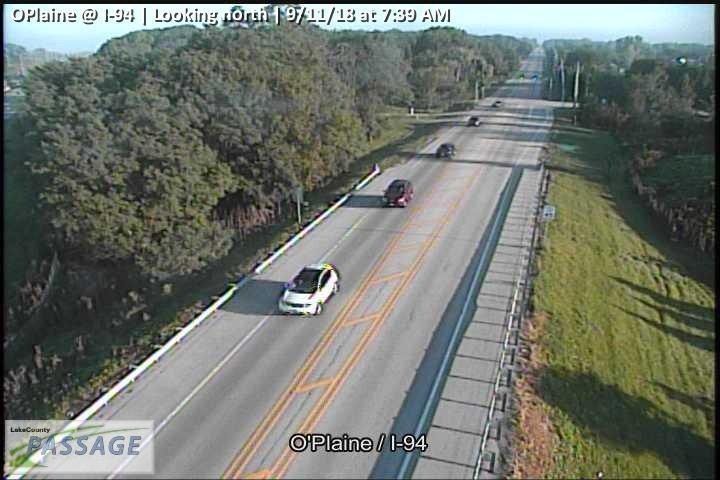Sedan: (275, 263, 339, 317), (379, 178, 414, 209), (433, 141, 458, 160)
